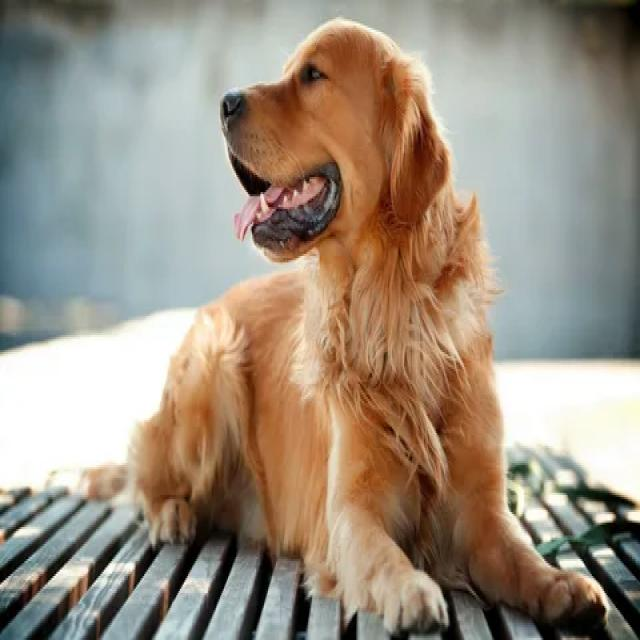Dog: (182, 14, 509, 640)
